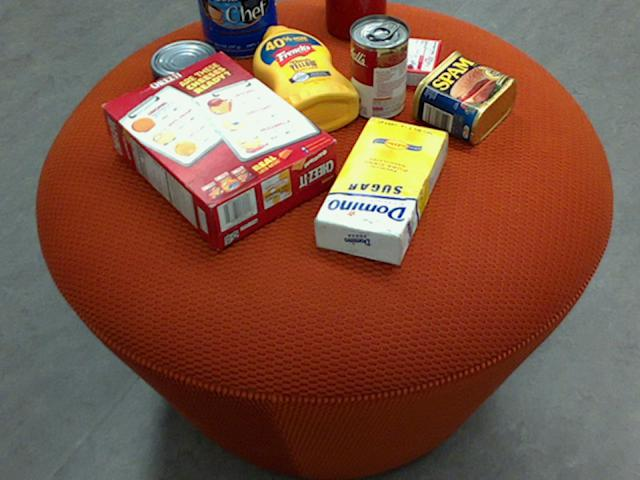cracker_box: (99, 49, 336, 247)
gelatin_box: (364, 35, 441, 89)
large_marker: (348, 0, 362, 33)
master_chef_can: (196, 0, 279, 56)
mug: (324, 0, 385, 39)
mustard_bottle: (252, 25, 357, 135)
potted_meat_can: (409, 51, 514, 144)
sugar_box: (315, 115, 446, 265)
tomato_soup_can: (349, 14, 409, 119)
tuna_fish_can: (148, 40, 220, 98)
